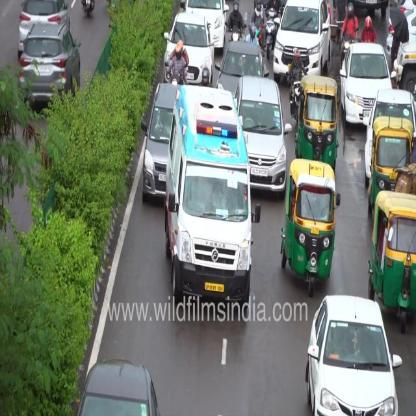auto-rikshaw: (280, 157, 342, 297), (367, 188, 415, 334), (294, 74, 340, 172)
bike: (286, 64, 308, 122), (164, 59, 188, 85), (288, 79, 302, 121), (226, 22, 246, 42), (81, 0, 95, 18)
car: (305, 293, 403, 415), (233, 74, 293, 198), (16, 19, 82, 111), (140, 80, 182, 204), (272, 0, 332, 86), (362, 87, 414, 185), (75, 357, 161, 415), (339, 40, 393, 128), (162, 10, 216, 86), (214, 38, 270, 98), (16, 0, 70, 60), (179, 0, 229, 54)
priority: (162, 83, 260, 311)
